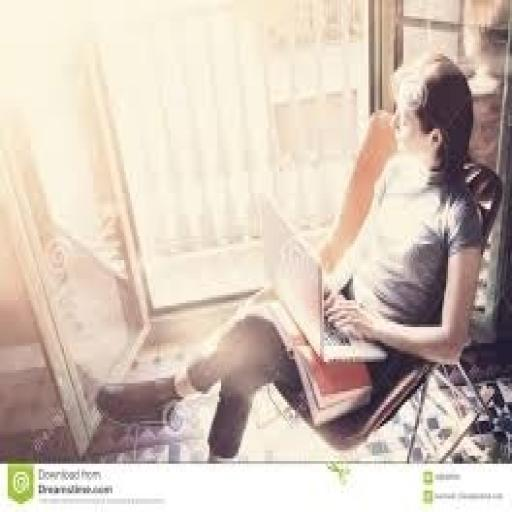using_laptop: (258, 193, 388, 365)
